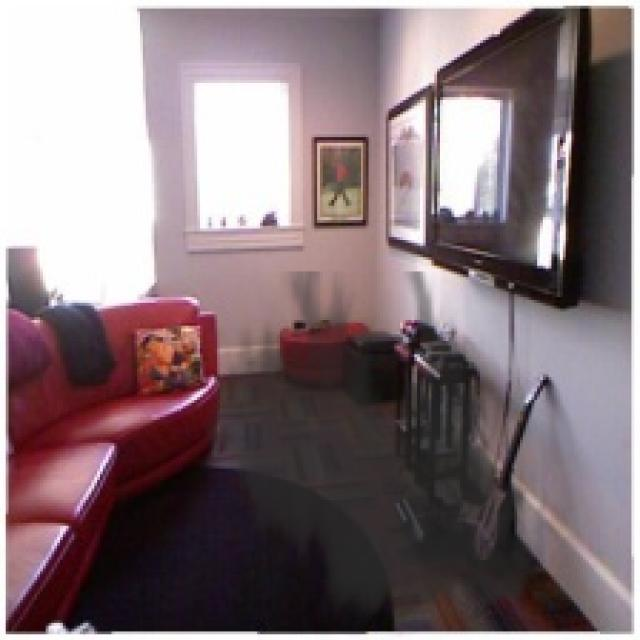smoke: (195, 272, 554, 637)
